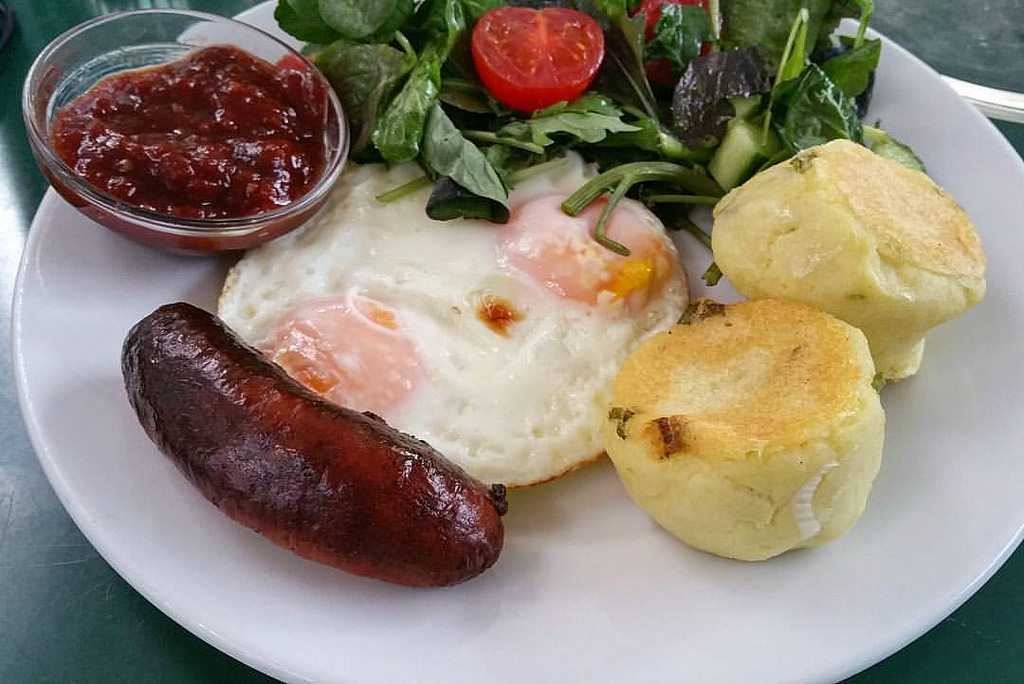fried egg: (291, 216, 660, 388)
